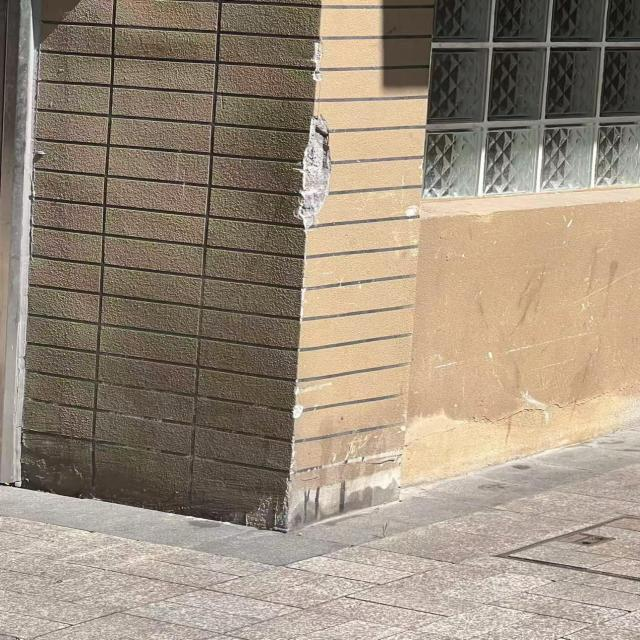crack: (406, 379, 634, 456)
spalling: (286, 109, 346, 234)
